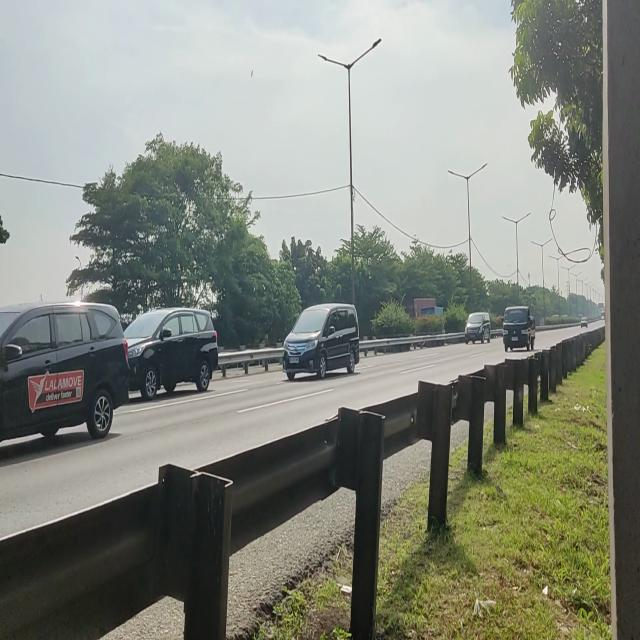Golongan I: (116, 300, 220, 408), (278, 300, 362, 382)
